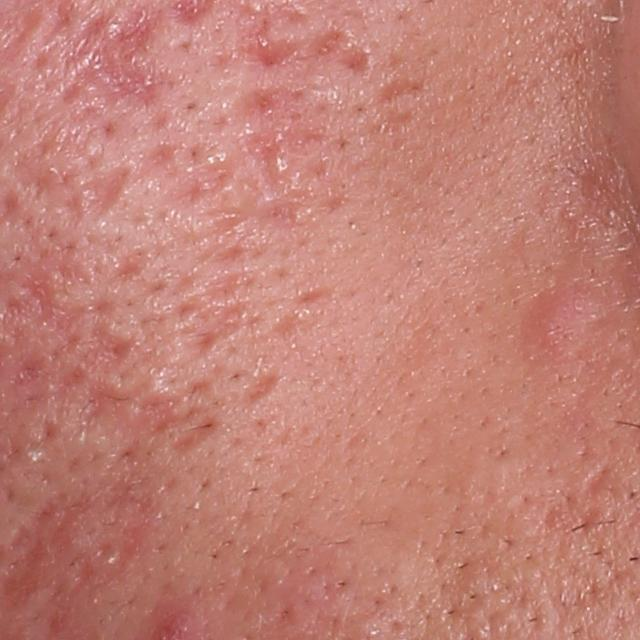atrophic_scar: (55, 4, 180, 113), (239, 82, 306, 204), (131, 380, 221, 455), (182, 269, 253, 358), (2, 264, 60, 345), (74, 380, 155, 435), (238, 15, 304, 74), (84, 158, 133, 225), (313, 26, 372, 79), (231, 367, 281, 411), (371, 77, 437, 108), (84, 327, 124, 375), (581, 464, 611, 495)
papule: (518, 298, 584, 366)
